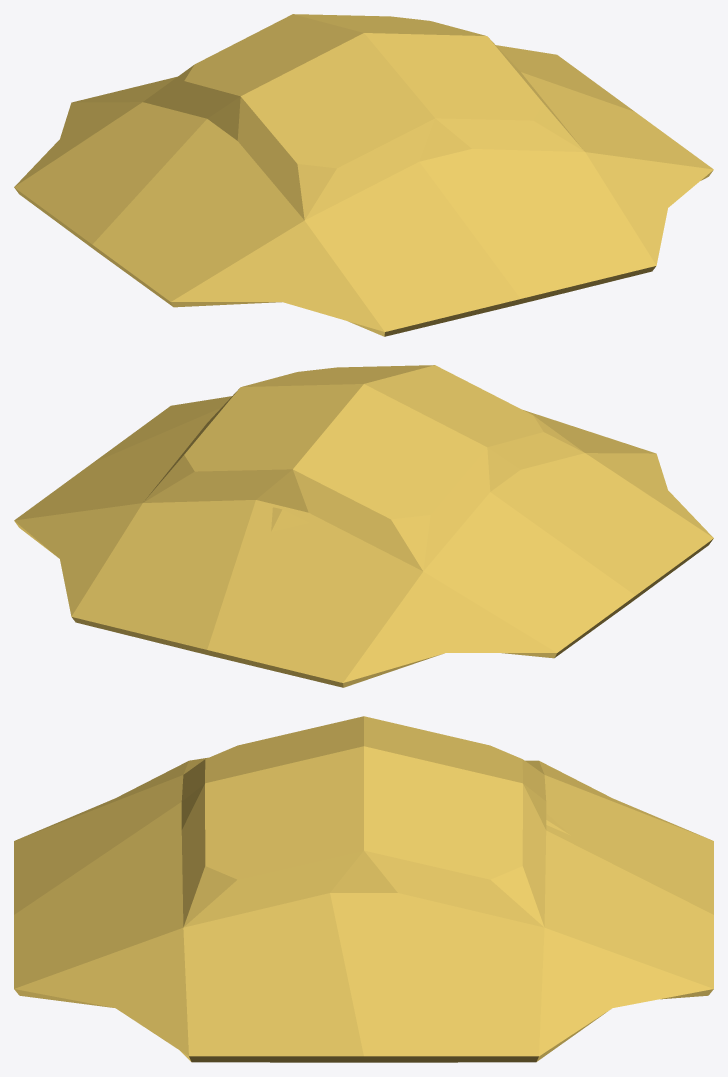
Rendered from Cos_Hat2.fbx.
The picture shows the model from 3 angles, top to bottom: view 1: azimuth 30°, elevation 25°; view 2: azimuth 150°, elevation 25°; view 3: azimuth 270°, elevation 25°; orthographic projection. The views are drawn at different scales.
Visible parts, largest first — view 1: Plane; view 2: Plane; view 3: Plane.
Part boxes in pixels (left/top/right/bottom): Plane: left=14, top=14, right=713, bottom=336; Plane: left=14, top=365, right=713, bottom=687; Plane: left=14, top=716, right=713, bottom=1062.
Bounding box in the file's own units: 162 × 45.23 × 162.
